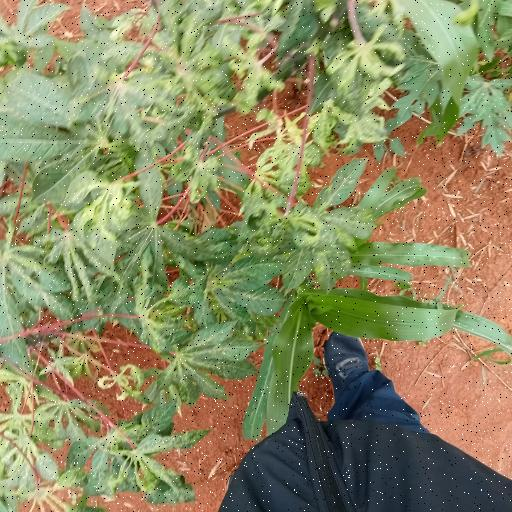Cassava_Mosaic: (16, 58, 126, 204), (0, 208, 131, 328), (232, 182, 370, 284), (156, 319, 254, 405), (97, 430, 212, 502), (36, 392, 118, 446), (463, 75, 512, 155)
